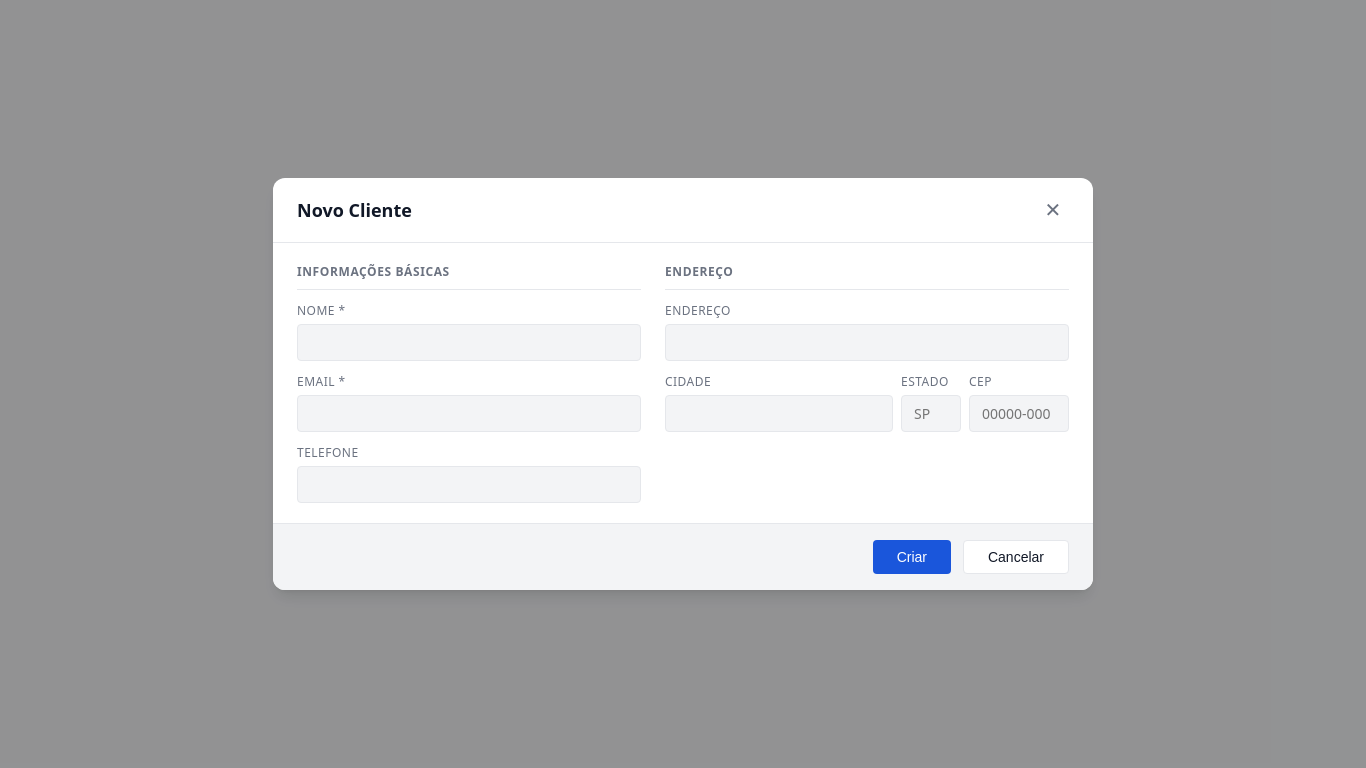
CustomerForm Component › exibe erros de validação quando campos obrigatórios estão vazios ao submeter
Click the button with test id "submit-customer-form": (912, 557) [873,540,951,574]
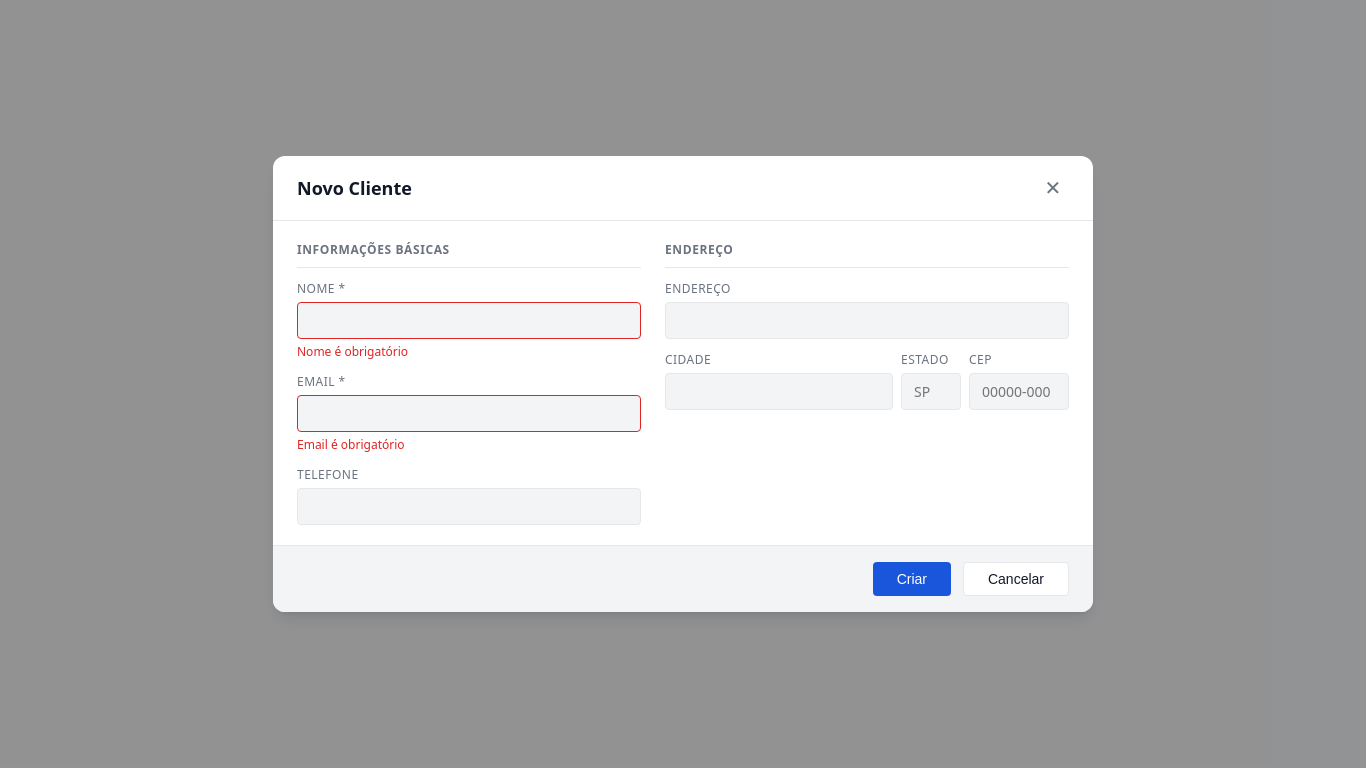
Check: the text "Nome é obrigatório" is shown, box [297,343,408,360]
Check: the text "Email é obrigatório" is shown, box [297,436,404,453]
